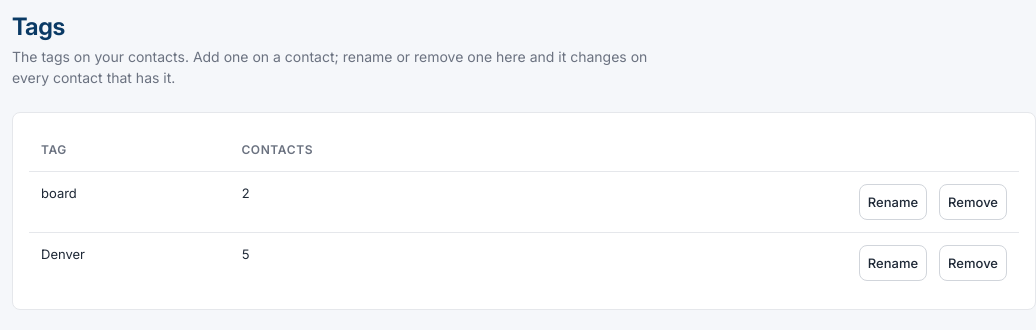
Settings, Tags (2026-10-12) › removes a tag only after saying how many contacts it is on
Click the button with aria-label "Remove Denver".
click(973, 263)  # box [939,245,1007,281]
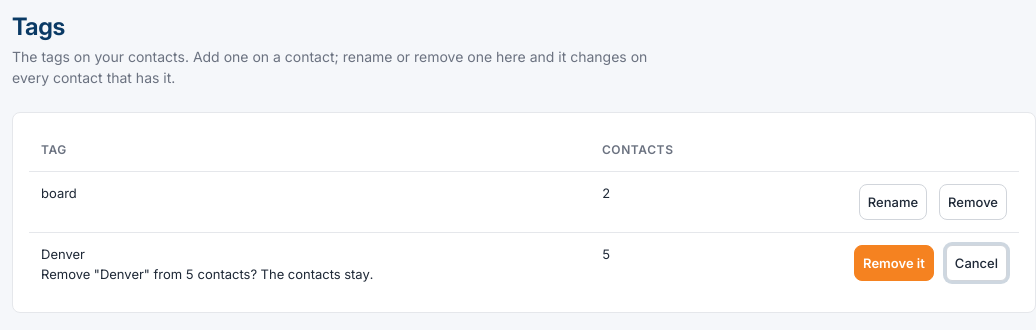
Check: the text "Remove \"Denver\" from 5 contacts? The contacts stay." is shown, box [41,266,373,282]
Click the button "Remove it".
click(894, 263)  # box [854,245,934,281]
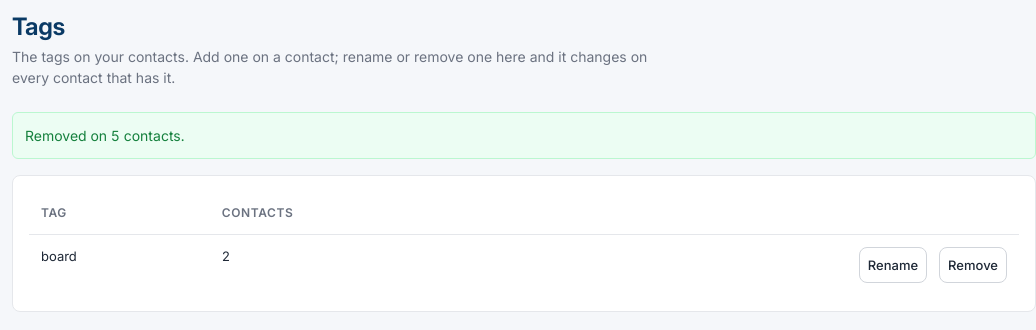
Check: the text "Removed on 5 contacts." is shown, box [25,127,184,144]
